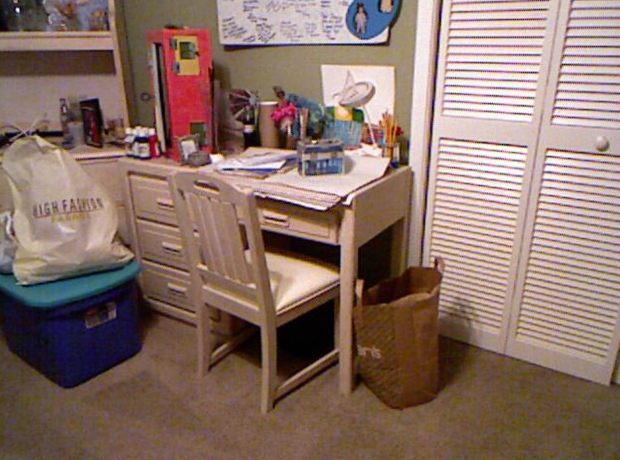cabinetDoor: (135, 186, 175, 217), (261, 212, 330, 229), (148, 274, 190, 301), (137, 234, 182, 259)
chair: (193, 173, 340, 404)
table: (341, 163, 409, 398)
